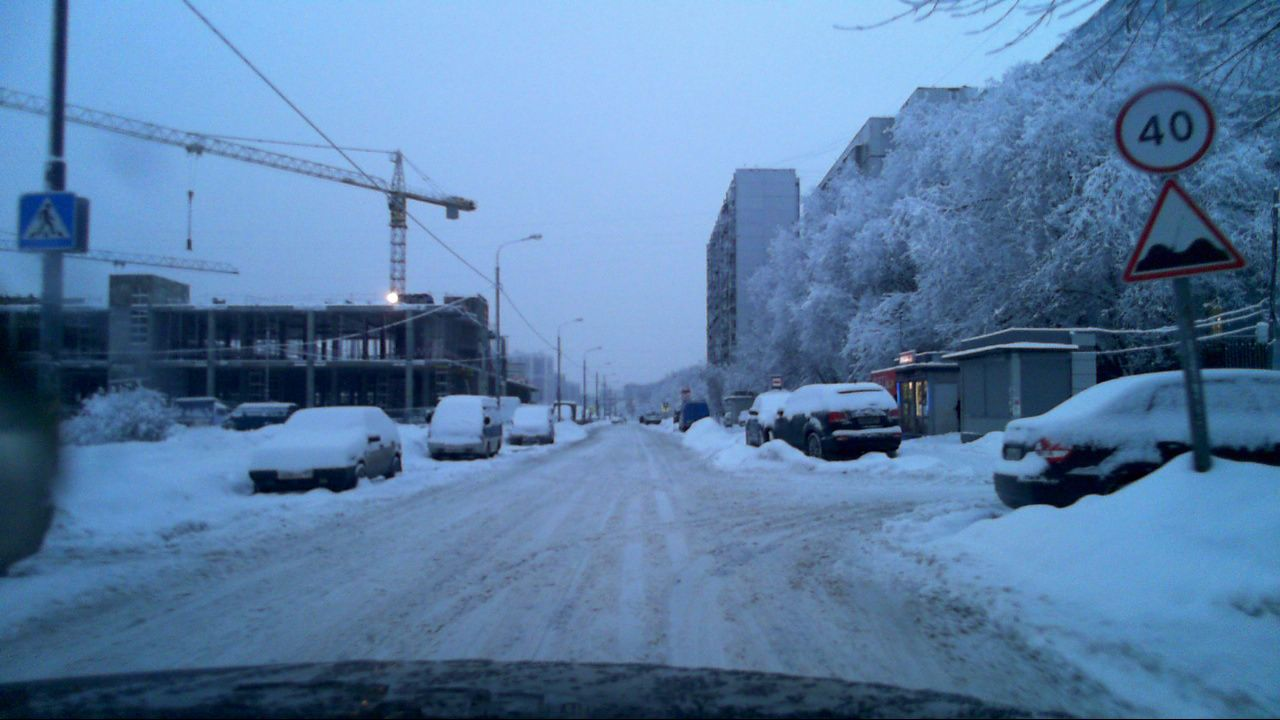speed_warning_40: (1118, 81, 1215, 172)
